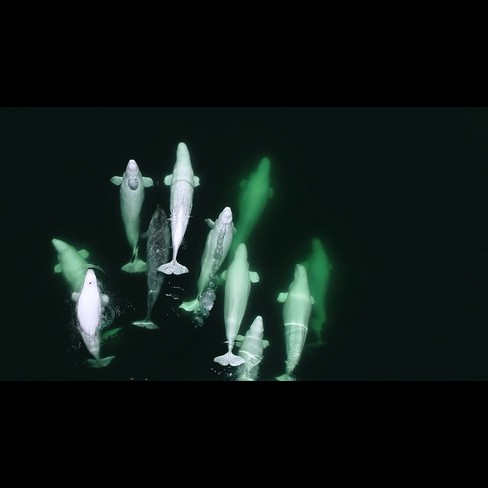beluga: (221, 152, 278, 285), (176, 199, 234, 321), (108, 157, 154, 277), (155, 138, 193, 281), (68, 265, 116, 373), (212, 242, 249, 373), (270, 259, 309, 382), (304, 237, 331, 349), (48, 236, 96, 298), (231, 315, 267, 380)
